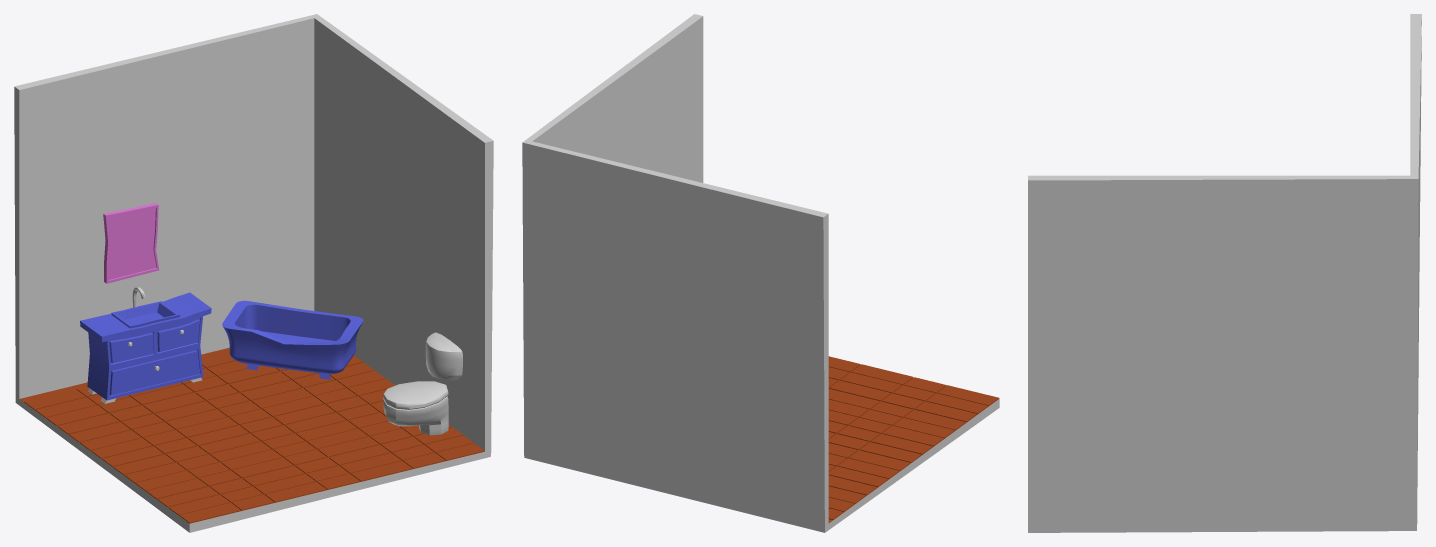
Rendered from L_chambres.fbx.
3 views of the same model, side by side, from view 1: azimuth 30°, elevation 25°; view 2: azimuth 150°, elevation 25°; view 3: azimuth 270°, elevation 25° (orthographic). The views are drawn at different scales.
Parts seen in each view (by area): view 1: L_chambres; view 2: L_chambres; view 3: L_chambres.
Part boxes in pixels (box(x1,y1,x2,y2)): L_chambres: box(14, 14, 493, 532); L_chambres: box(522, 14, 999, 532); L_chambres: box(1028, 14, 1421, 532).
Size of the model in its own units: 618 by 622 by 618.
